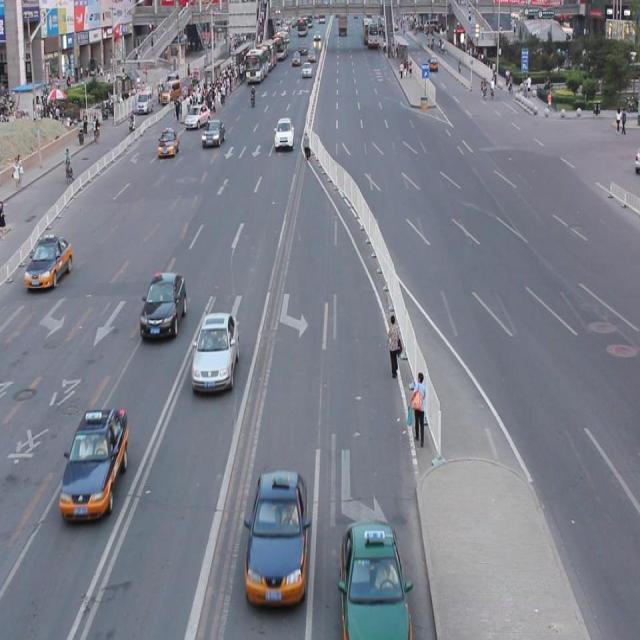car: (340, 515, 410, 640), (245, 470, 309, 604), (60, 405, 129, 522), (191, 310, 238, 392), (140, 269, 187, 340), (24, 233, 74, 291)
